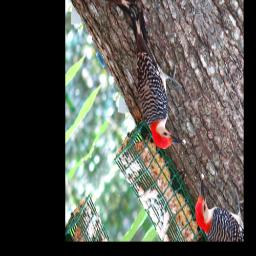Woodpecker: (106, 0, 206, 169)
